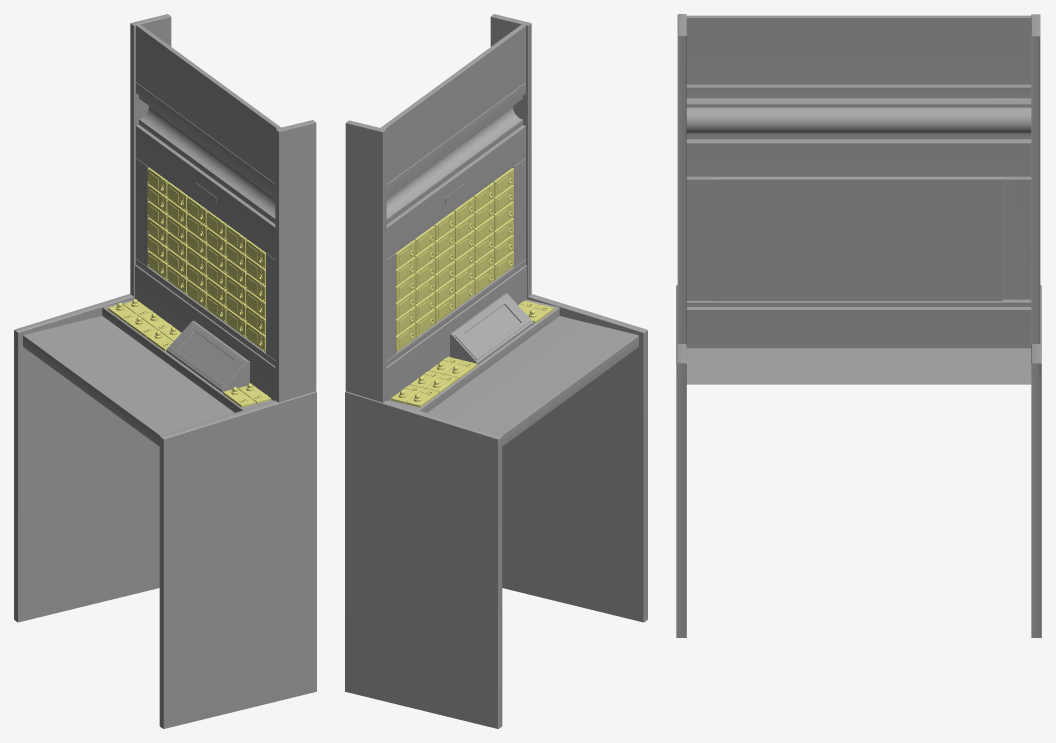
File: SwitchBoard_v01_01_alsu.fbx
The picture shows the model from 3 angles, left to right: view 1: azimuth 30°, elevation 25°; view 2: azimuth 150°, elevation 25°; view 3: azimuth 270°, elevation 25°; orthographic projection. The views are drawn at different scales.
Visible parts, largest first — view 1: poly_switchBoardSides_01, poly_switchboard_Main_02, monitor; view 2: poly_switchBoardSides_01, poly_switchboard_Main_02, monitor; view 3: poly_switchboard_Main_02, poly_switchBoardSides_01.
Part boxes in pixels (x1=…): poly_switchBoardSides_01: x1=14, y1=14, x2=316, y2=728; poly_switchboard_Main_02: x1=23, y1=24, x2=280, y2=446; monitor: x1=166, y1=321, x2=249, y2=392; poly_switchBoardSides_01: x1=345, y1=14, x2=647, y2=728; poly_switchboard_Main_02: x1=380, y1=24, x2=638, y2=446; monitor: x1=450, y1=293, x2=533, y2=364; poly_switchboard_Main_02: x1=686, y1=15, x2=1031, y2=384; poly_switchBoardSides_01: x1=676, y1=14, x2=1041, y2=637.
Size of the model in its own units: 62.93 by 223 by 107.
